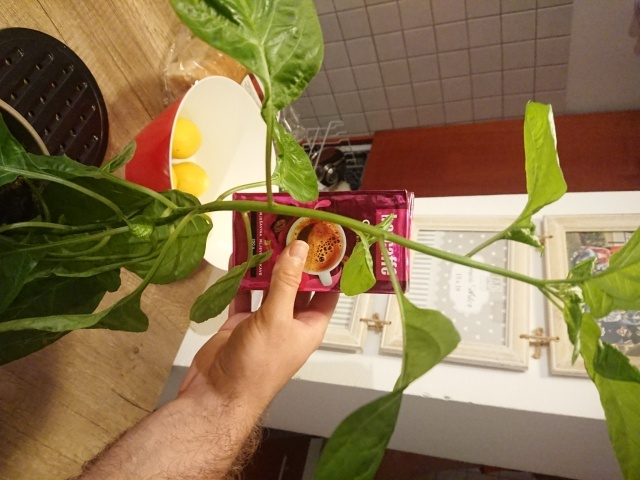Barcaffe Classic Original 225g: (229, 186, 416, 297)
